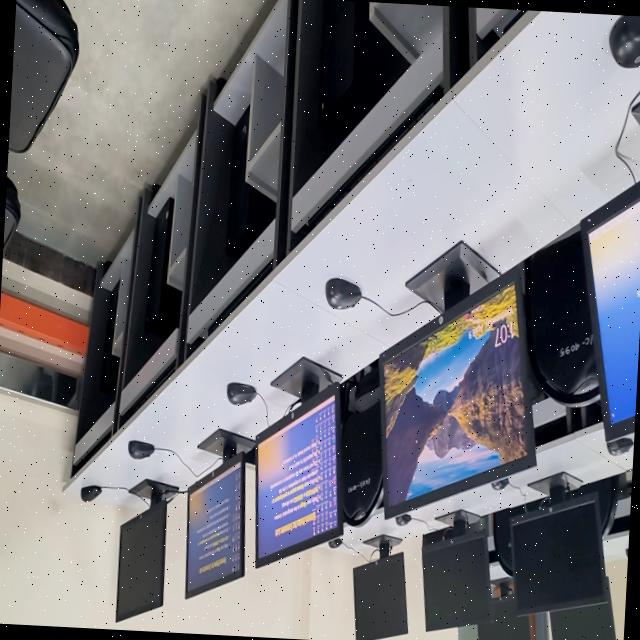Chair: (524, 231, 600, 407), (8, 0, 79, 153), (342, 402, 383, 526), (594, 475, 620, 537), (3, 176, 21, 256), (494, 511, 515, 577)
Cpu: (320, 0, 408, 152), (226, 105, 275, 264), (146, 198, 181, 339)
Monitor: (379, 274, 536, 518), (581, 181, 640, 441), (257, 396, 341, 567), (511, 493, 606, 614), (116, 480, 179, 622), (186, 456, 246, 598), (422, 521, 490, 632), (354, 535, 408, 640), (550, 577, 616, 640), (477, 595, 531, 640)
Mouse: (609, 15, 640, 68), (326, 279, 362, 310), (227, 383, 257, 405), (129, 441, 155, 460), (81, 487, 102, 502), (395, 514, 411, 527), (492, 479, 509, 491), (328, 538, 342, 549)
